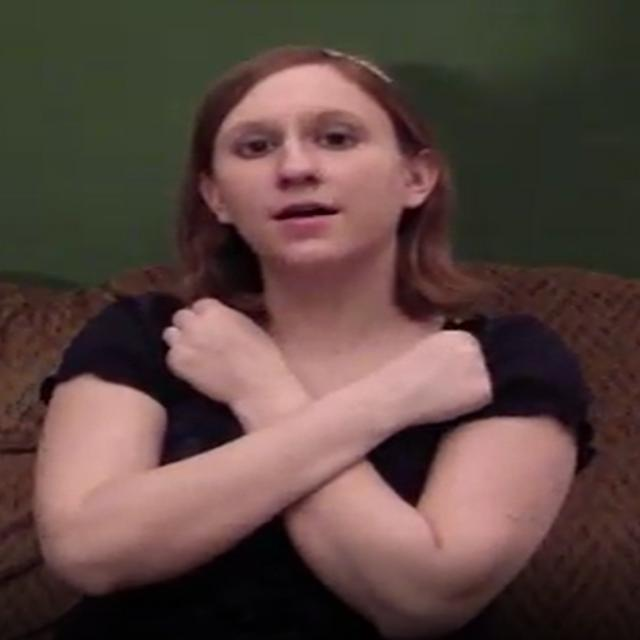love: (164, 299, 492, 423)
